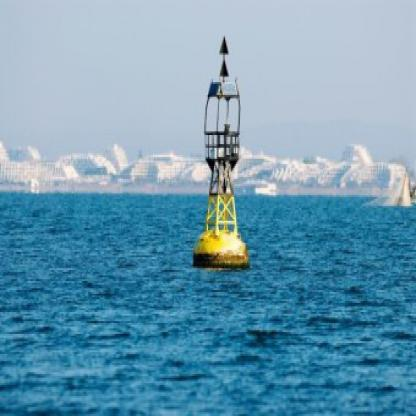buoy: (188, 26, 257, 274)
